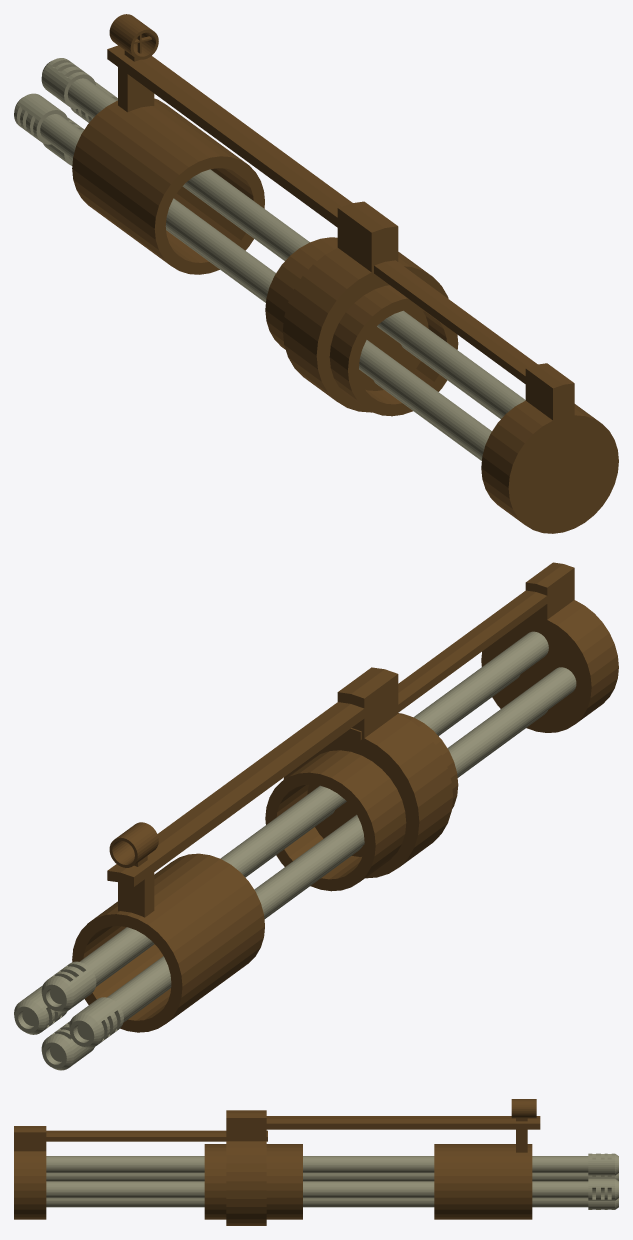
The model's file is ametralladora_texturizada.fbx.
The picture shows the model from 3 angles, top to bottom: view 1: azimuth 30°, elevation 25°; view 2: azimuth 150°, elevation 25°; view 3: azimuth 270°, elevation 25°; orthographic projection. The views are drawn at different scales.
Parts seen in each view (by area): view 1: soporte.001, soporte, circulo.001, cañon.001, cañon.003, circulo, mira, cañon.004, cañon.002; view 2: soporte.001, circulo.001, soporte, cañon.001, cañon.003, circulo, cañon.004, cañon.002, mira; view 3: soporte.001, circulo.001, cañon.002, cañon.003, soporte, circulo, cañon.004, cañon.001, mira.
Part boxes in pixels (x1=…): soporte.001: x1=107, y1=45, x2=448, y2=412; soporte: x1=374, y1=260, x2=618, y2=533; circulo.001: x1=72, y1=98, x2=264, y2=274; cañon.001: x1=14, y1=93, x2=491, y2=458; cañon.003: x1=41, y1=58, x2=525, y2=417; circulo: x1=265, y1=237, x2=458, y2=416; mira: x1=109, y1=14, x2=158, y2=59; cañon.004: x1=43, y1=118, x2=481, y2=460; cañon.002: x1=71, y1=82, x2=501, y2=418; soporte.001: x1=107, y1=667, x2=452, y2=917; circulo.001: x1=72, y1=853, x2=264, y2=1032; soporte: x1=342, y1=562, x2=618, y2=739; cañon.001: x1=69, y1=667, x2=576, y2=1048; cañon.003: x1=41, y1=631, x2=548, y2=1012; circulo: x1=265, y1=713, x2=458, y2=891; cañon.004: x1=41, y1=710, x2=547, y2=1070; cañon.002: x1=14, y1=675, x2=519, y2=1034; mira: x1=109, y1=822, x2=158, y2=867; soporte.001: x1=226, y1=1110, x2=540, y2=1225; circulo.001: x1=434, y1=1144, x2=532, y2=1219; cañon.002: x1=46, y1=1178, x2=618, y2=1200; cañon.003: x1=46, y1=1153, x2=618, y2=1175; soporte: x1=14, y1=1126, x2=267, y2=1219; circulo: x1=204, y1=1144, x2=302, y2=1219; cañon.004: x1=46, y1=1198, x2=618, y2=1209; cañon.001: x1=46, y1=1173, x2=618, y2=1181; mira: x1=511, y1=1099, x2=536, y2=1118.
Size of the model in its own units: 154 by 221 by 994.
